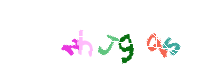G: (86, 0, 166, 80)
H: (62, 0, 142, 80)
J: (69, 0, 149, 80)
Q: (97, 0, 177, 80)
S: (116, 0, 196, 80)
Z: (31, 0, 111, 80)
